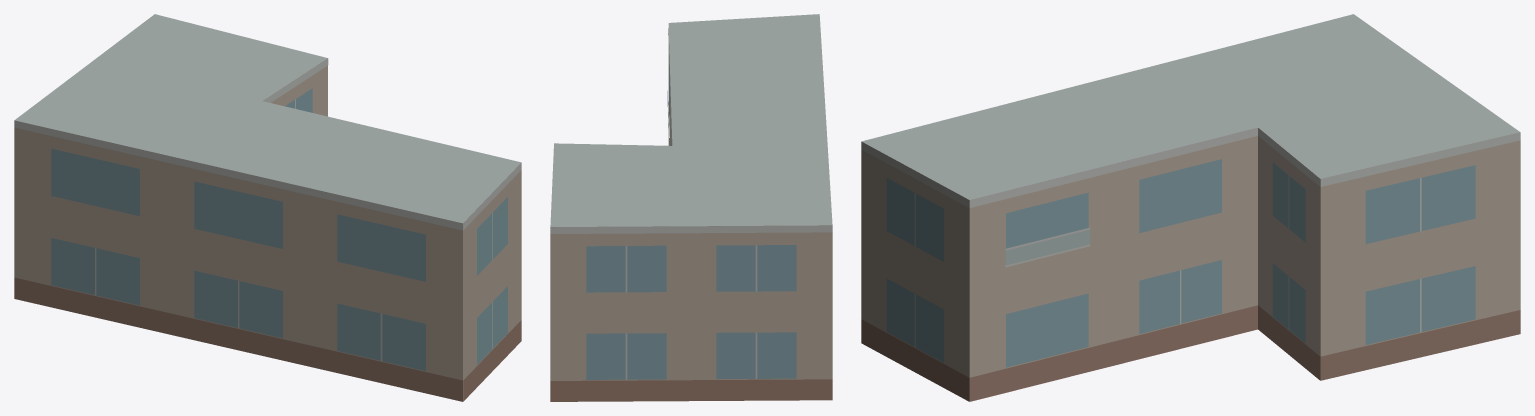
The model's file is survey-upis-32766268.glb.
The picture shows the model from 3 angles, left to right: view 1: azimuth 30°, elevation 25°; view 2: azimuth 150°, elevation 25°; view 3: azimuth 270°, elevation 25°; orthographic projection. The views are drawn at different scales.
Parts seen in each view (by area): view 1: survey-upis-32766268.tmp; view 2: survey-upis-32766268.tmp; view 3: survey-upis-32766268.tmp.
Boxes of the visible parts, x1=… form: survey-upis-32766268.tmp: x1=14, y1=14, x2=521, y2=401; survey-upis-32766268.tmp: x1=550, y1=14, x2=832, y2=401; survey-upis-32766268.tmp: x1=861, y1=14, x2=1520, y2=401.
Size of the model in its own units: 12.08 by 6.1 by 18.08.
